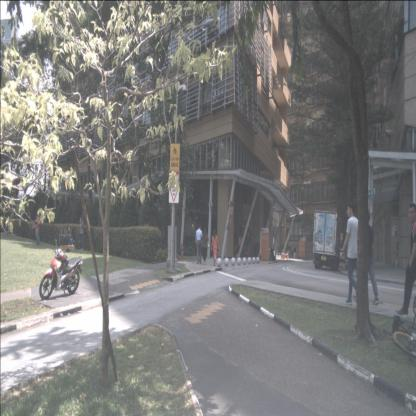cone: (286, 252, 290, 260), (280, 252, 283, 260), (282, 254, 286, 260)
